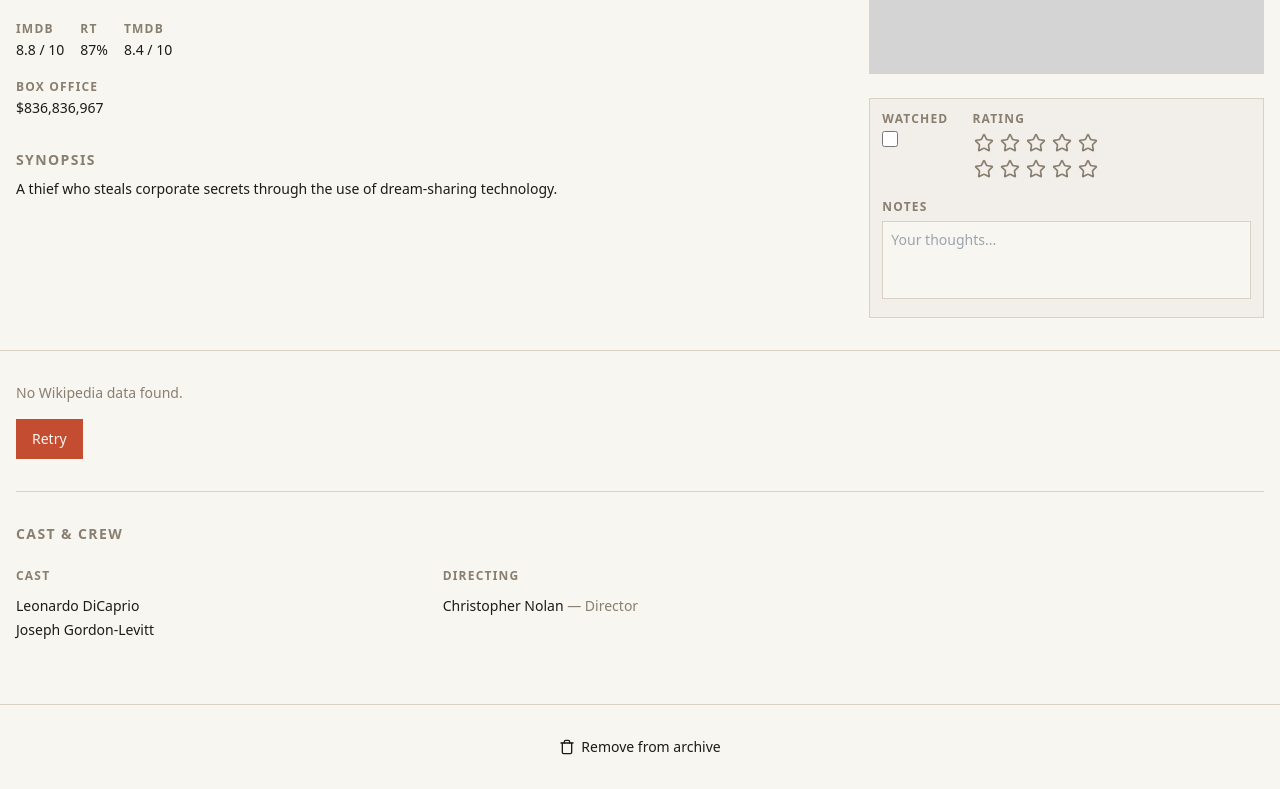
Test case: /movies/[id] page › shows "Still no page found." after a failed retry and re-enables the button
(page scrolled)
Click the button "Retry": [49, 439] box [16,419,83,459]
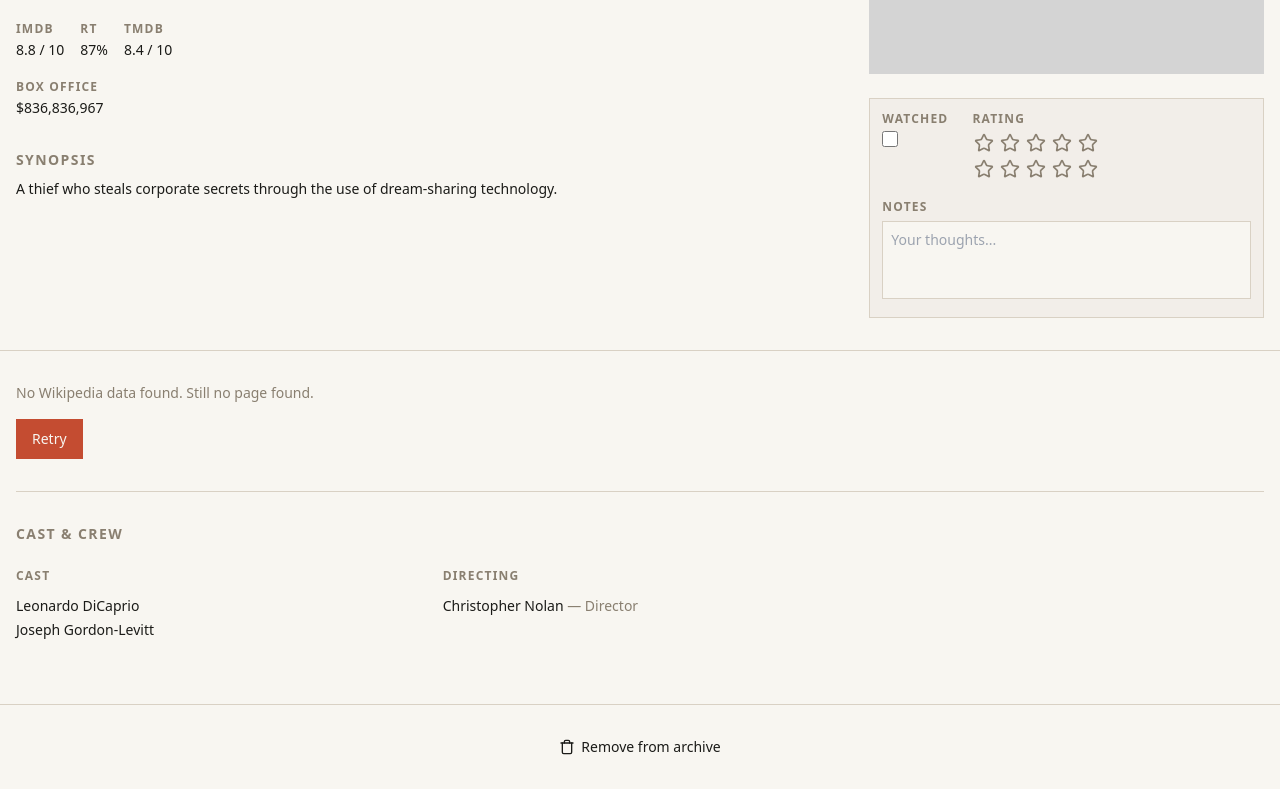
Expected: the text "Still no page found." is shown, [186,383,314,402]
